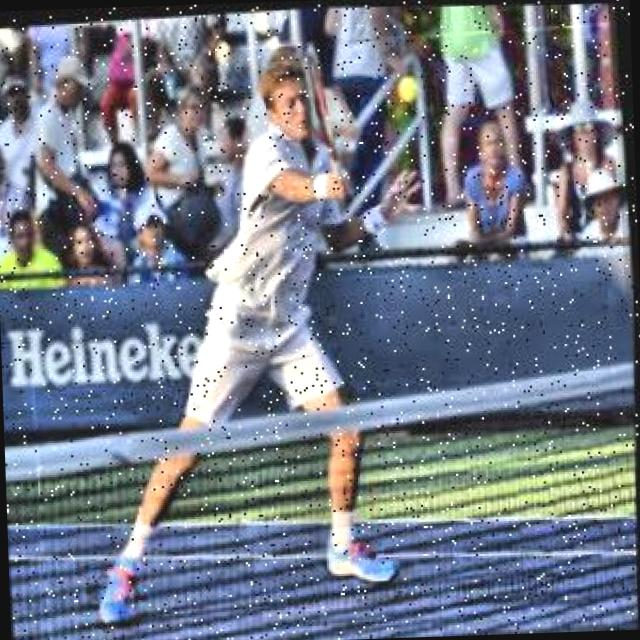tennis-ball: (396, 76, 418, 100)
